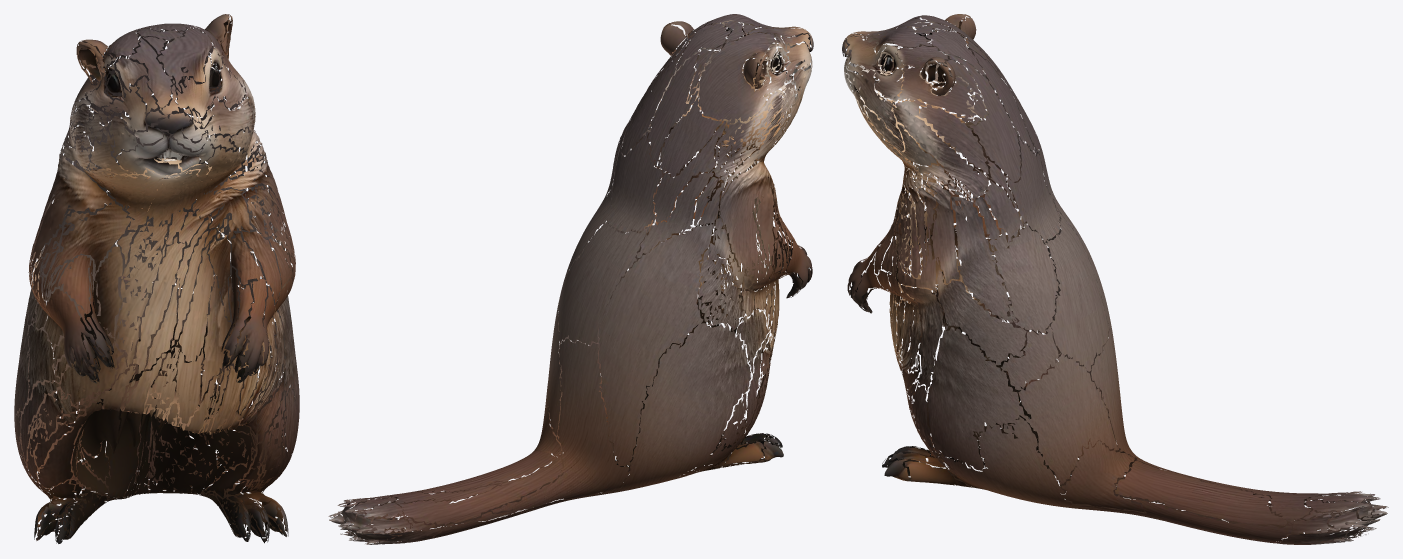
The model's file is marmot.glb.
3 views of the same model, side by side, from view 1: azimuth 30°, elevation 25°; view 2: azimuth 150°, elevation 25°; view 3: azimuth 270°, elevation 25° (orthographic). The views are drawn at different scales.
Visible parts, largest first — view 1: node_0; view 2: node_0; view 3: node_0.
Boxes of the visible parts, x1,y1,x2,y2 form: node_0: (14, 14, 299, 543); node_0: (328, 14, 813, 544); node_0: (842, 14, 1388, 544).
Bounding box in the file's own units: 0.5388 × 0.7933 × 0.9031.
1 material, 1 textured.
